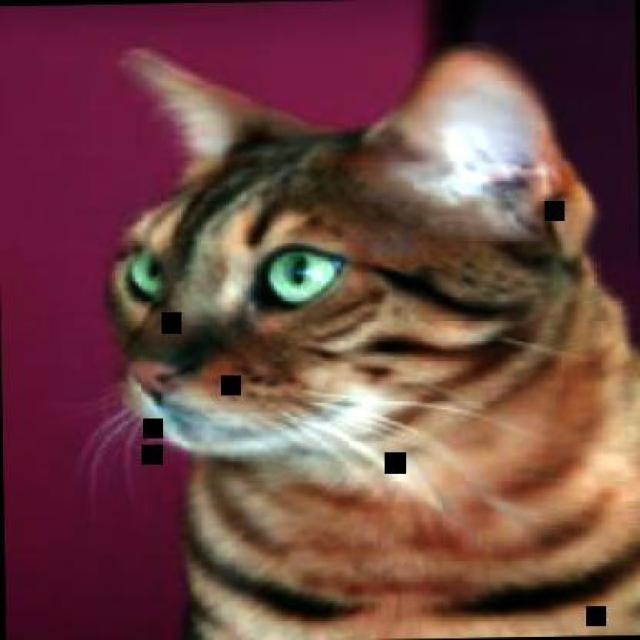cat: (56, 37, 638, 638)
